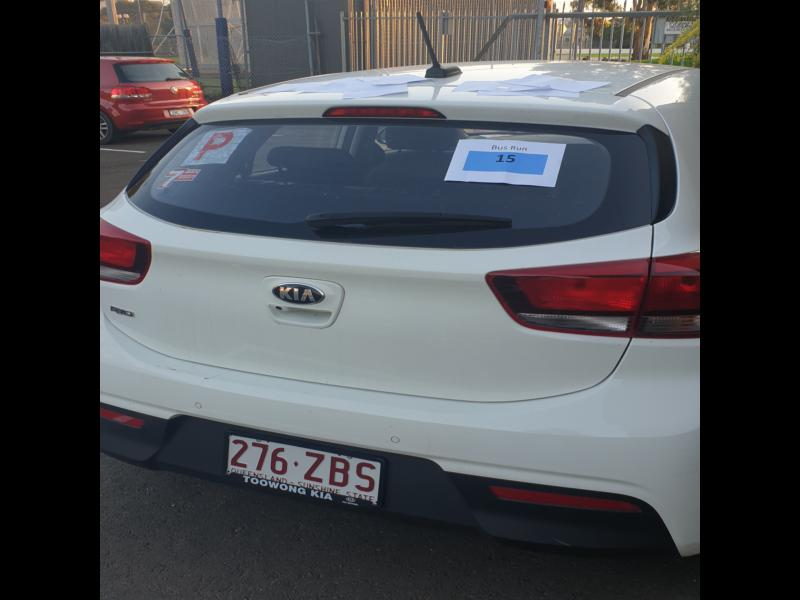BusRun: (463, 150, 548, 176)
PlateNo: (226, 432, 383, 504)
